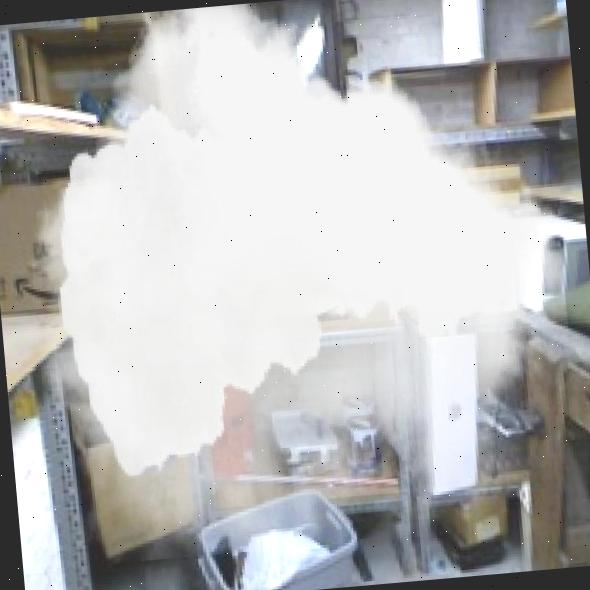smoke: (166, 90, 451, 328)
